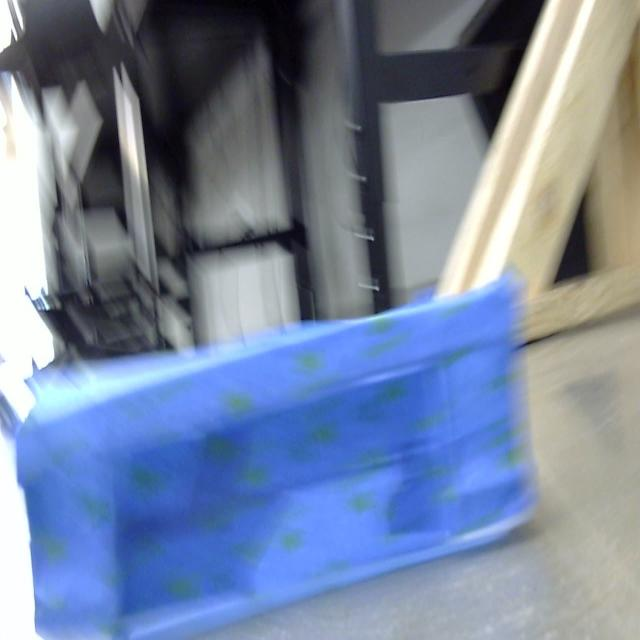bucket: (13, 269, 540, 640)
